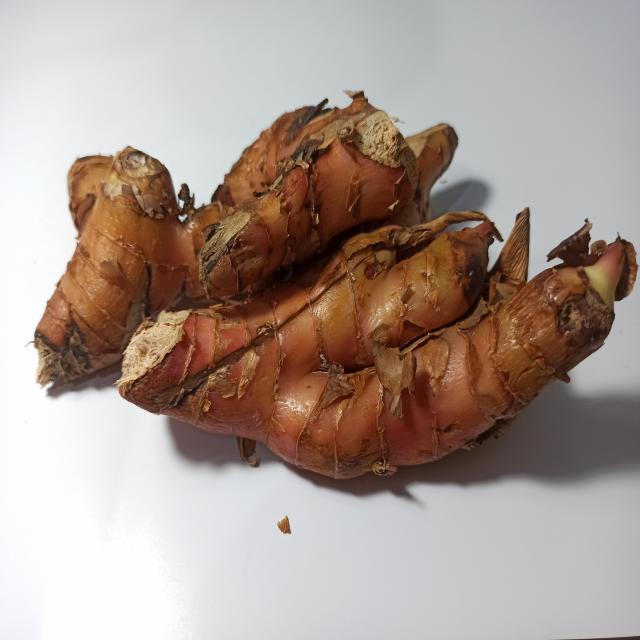ginger: (36, 92, 635, 480)
